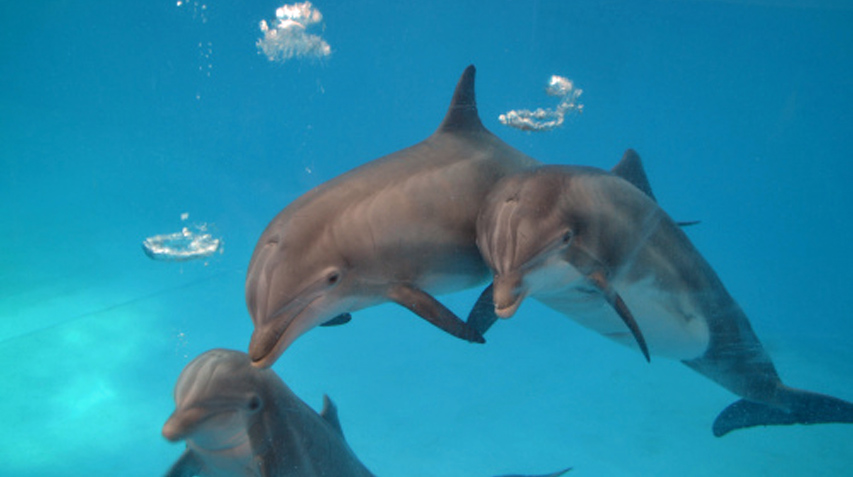dolphin: (174, 63, 549, 385), (479, 147, 853, 442), (141, 352, 373, 477)
